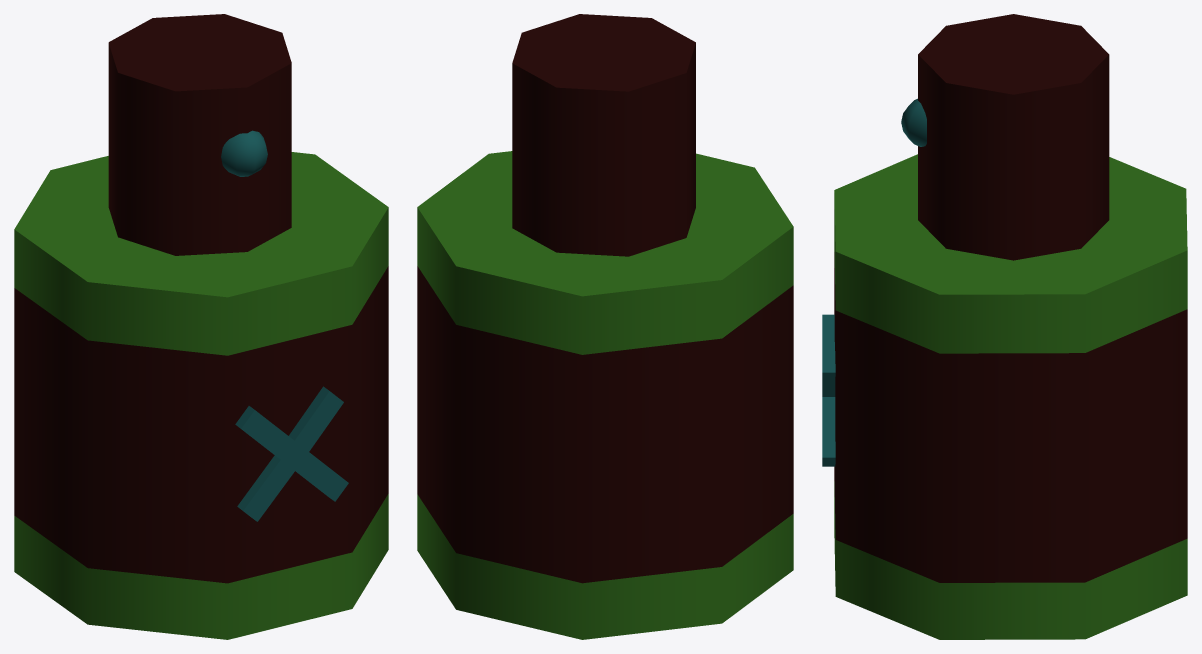
File: PowerupInseticida.fbx
3 renders of one model, left to right at view 1: azimuth 30°, elevation 25°; view 2: azimuth 150°, elevation 25°; view 3: azimuth 270°, elevation 25°, orthographic.
Parts seen in each view (by area): view 1: FlashItem; view 2: FlashItem; view 3: FlashItem.
Part boxes in pixels (x1=…): FlashItem: x1=14, y1=14, x2=388, y2=639; FlashItem: x1=417, y1=14, x2=793, y2=639; FlashItem: x1=822, y1=14, x2=1187, y2=639.
Size of the model in its own units: 6.66 by 10.63 by 6.89.
